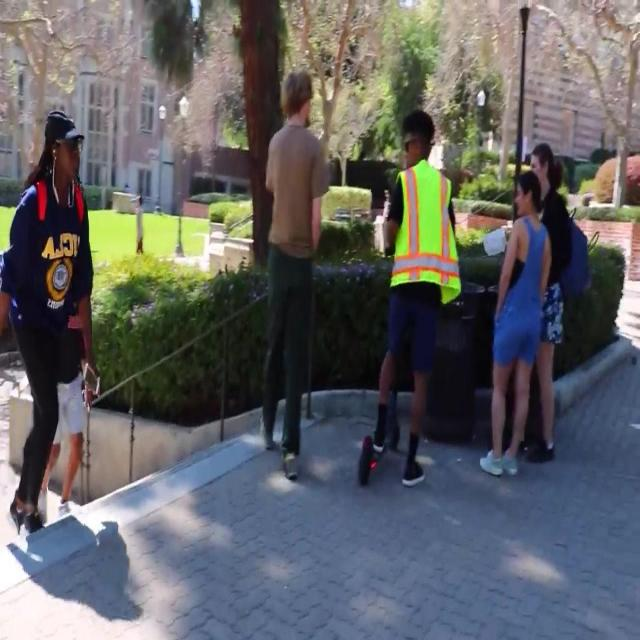Reflective-Jacket: (382, 160, 470, 314)
